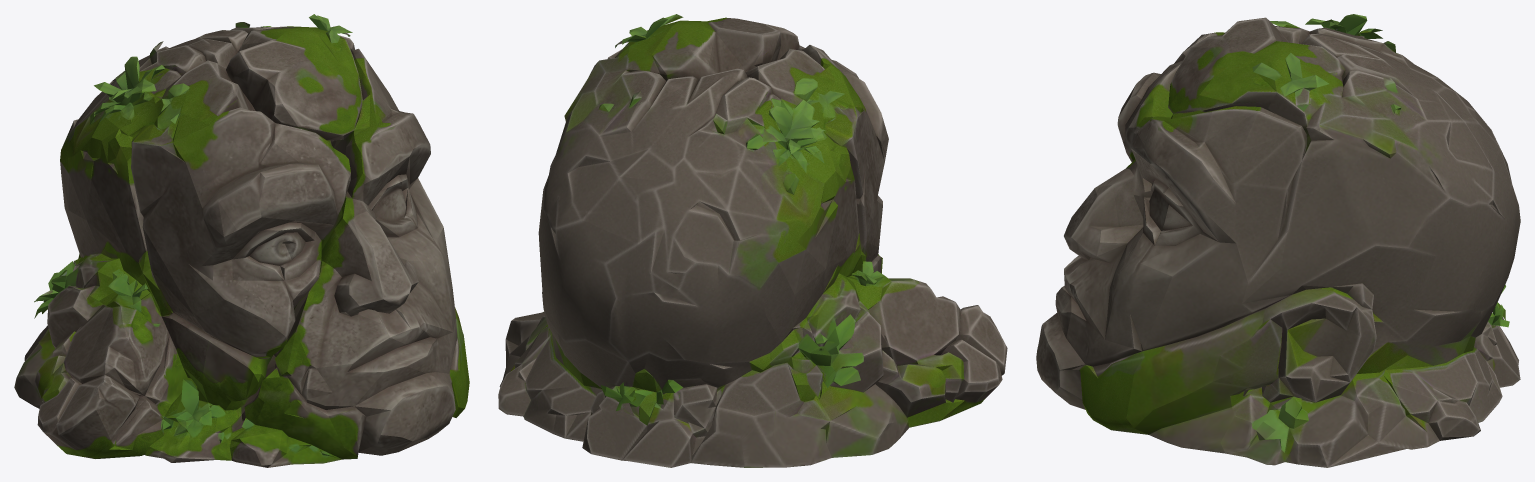
The picture shows the model from 3 angles, left to right: view 1: azimuth 30°, elevation 25°; view 2: azimuth 150°, elevation 25°; view 3: azimuth 270°, elevation 25°; orthographic projection.
Size of the model in its own units: 1.9 by 1.41 by 1.79.
Materials: 1 (1 with a texture image).
